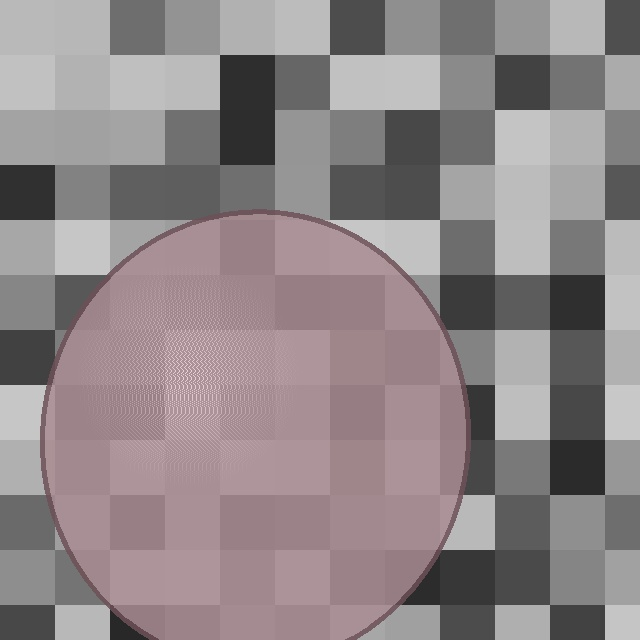lens: (44, 213, 466, 640)
